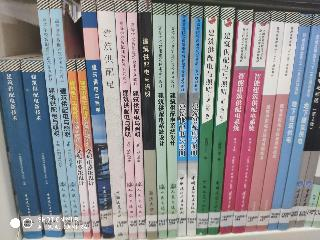book-spine: (255, 12, 300, 232), (267, 14, 312, 231), (275, 16, 320, 230), (243, 11, 285, 232), (230, 11, 270, 234), (37, 0, 74, 239), (81, 0, 116, 237), (50, 0, 83, 239), (0, 59, 42, 240), (219, 9, 252, 235), (22, 58, 62, 238), (98, 0, 128, 239), (205, 7, 235, 235), (115, 0, 137, 239), (195, 6, 218, 234), (126, 1, 146, 238), (67, 60, 91, 239), (139, 1, 157, 238), (77, 60, 100, 238), (187, 6, 203, 235), (154, 4, 167, 238), (176, 5, 189, 236), (167, 4, 177, 238)
